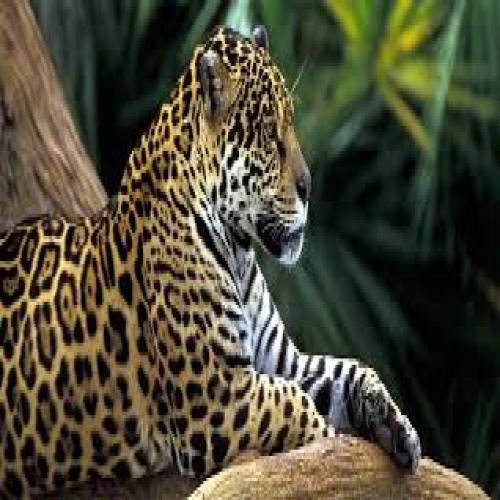jaguar_not-endangered: (0, 28, 422, 476)
